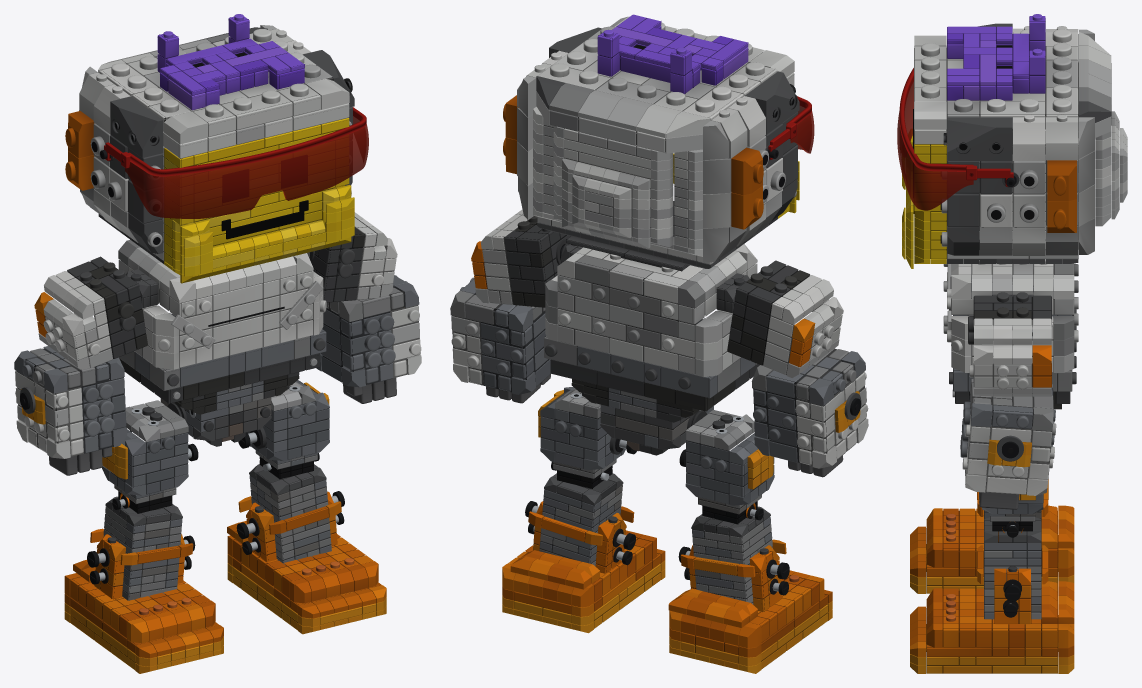
The model's file is pixel-mech.glb.
3 renders of one model, left to right at view 1: azimuth 30°, elevation 25°; view 2: azimuth 150°, elevation 25°; view 3: azimuth 270°, elevation 25°, orthographic. The views are drawn at different scales.
Parts seen in each view (by area): view 1: korpus_plastic, shapka_plastic, lico_plastic, bokL_plastic, rukaL_naruch_plastic, stupnyaL_plastic, ochki_linza, stupnyaR_plastic, rukaL_plastic, rukaR_naruch_plastic, nogaL_plastic, nogaR_plastic (+11 smaller); view 2: korpus_plastic, shapka_plastic, lico_plastic, bokL_plastic, rukaL_naruch_plastic, stupnyaL_plastic, rukaL_plastic, stupnyaR_plastic, rukaR_naruch_plastic, nogaL_plastic, rukaR_plastic, nogaR_plastic (+10 smaller); view 3: bokR_plastic, shapka_plastic, stupnyaR_plastic, korpus_plastic, rukaR_naruch_plastic, rukaR_plastic, stupnyaL_plastic, lico_plastic, nogaR_golen_plastic, ochki_linza, stupnyaR_manzhet_plastic, ochki_oprava (+4 smaller).
Part boxes in pixels (x1,y1,x2,y2): korpus_plastic: (118,239,326,414); shapka_plastic: (98,14,349,158); lico_plastic: (98,117,354,283); bokL_plastic: (65,66,163,253); rukaL_naruch_plastic: (14,346,127,475); stupnyaL_plastic: (64,560,223,673); ochki_linza: (125,116,368,218); stupnyaR_plastic: (227,521,386,634); rukaL_plastic: (34,256,147,369); rukaR_naruch_plastic: (316,275,421,403); nogaL_plastic: (102,400,188,513); nogaR_plastic: (247,380,329,479); korpus_plastic: (544,243,759,422); shapka_plastic: (536,14,794,153); lico_plastic: (533,106,799,271); bokL_plastic: (703,71,799,262); rukaL_naruch_plastic: (751,348,868,477); stupnyaL_plastic: (668,570,832,673); rukaL_plastic: (727,260,843,377); stupnyaR_plastic: (502,530,665,633); rukaR_naruch_plastic: (450,277,550,403); nogaL_plastic: (685,410,774,524); rukaR_plastic: (471,209,570,307); nogaR_plastic: (538,387,625,488); bokR_plastic: (940,114,1094,255); shapka_plastic: (914,14,1111,144); stupnyaR_plastic: (910,581,1074,673); korpus_plastic: (943,259,1078,409); rukaR_naruch_plastic: (960,378,1056,509); rukaR_plastic: (968,292,1051,396); stupnyaL_plastic: (910,505,1074,593); lico_plastic: (902,62,1127,268); nogaR_golen_plastic: (984,517,1041,619); ochki_linza: (897,81,973,210); stupnyaR_manzhet_plastic: (977,545,1048,624); ochki_oprava: (899,68,1013,186).
Bounding box in the file's own units: 21.93 × 31.11 × 11.2.
